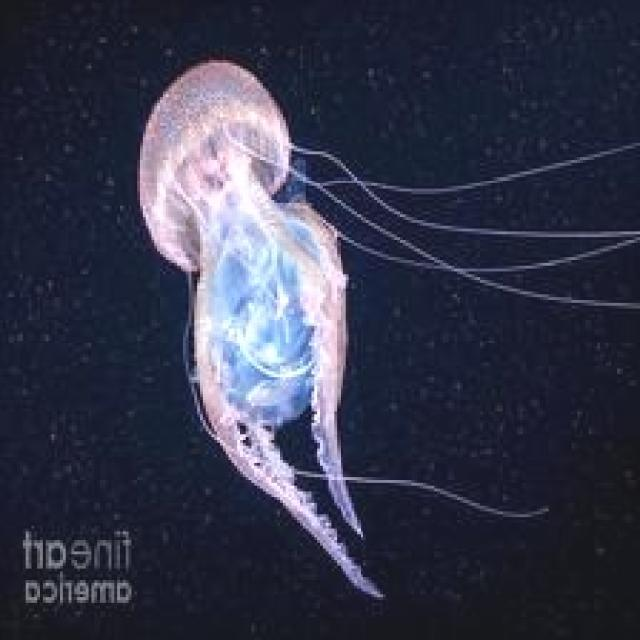Moon-jellyfish: (134, 54, 637, 600)
